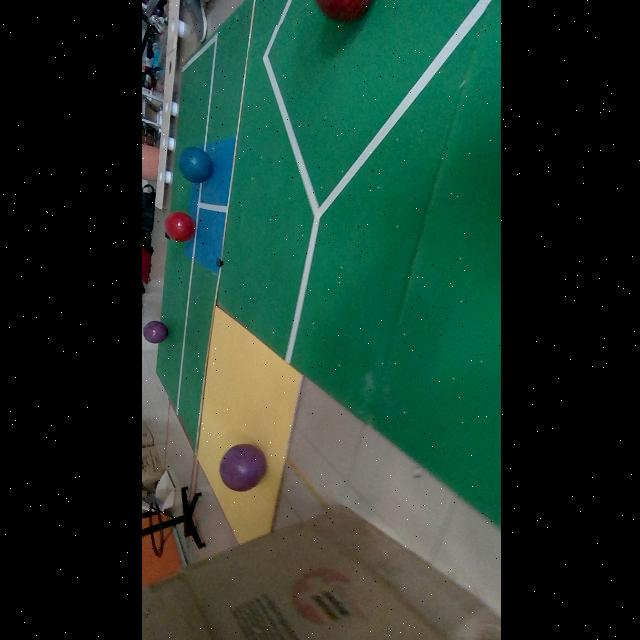B: (176, 148, 211, 183)
P: (217, 444, 264, 492), (141, 320, 166, 344)
R: (313, 0, 370, 21), (163, 212, 193, 243)
